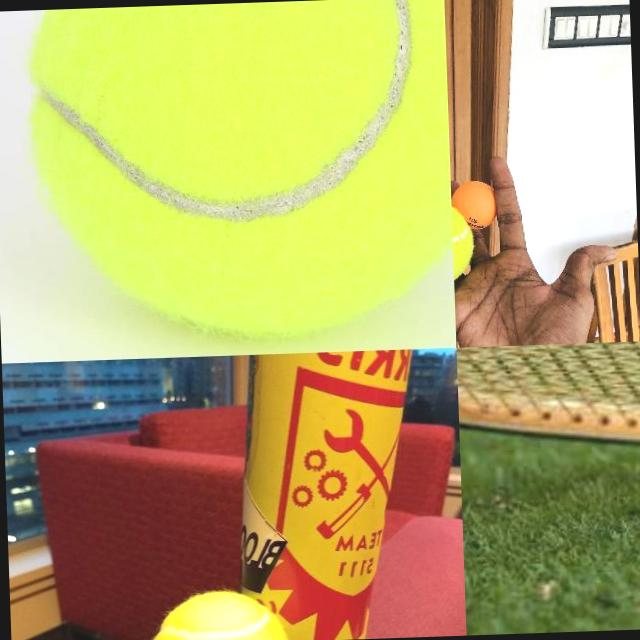Tennis Ball: (23, 0, 455, 342), (145, 587, 291, 640), (452, 198, 474, 270)
